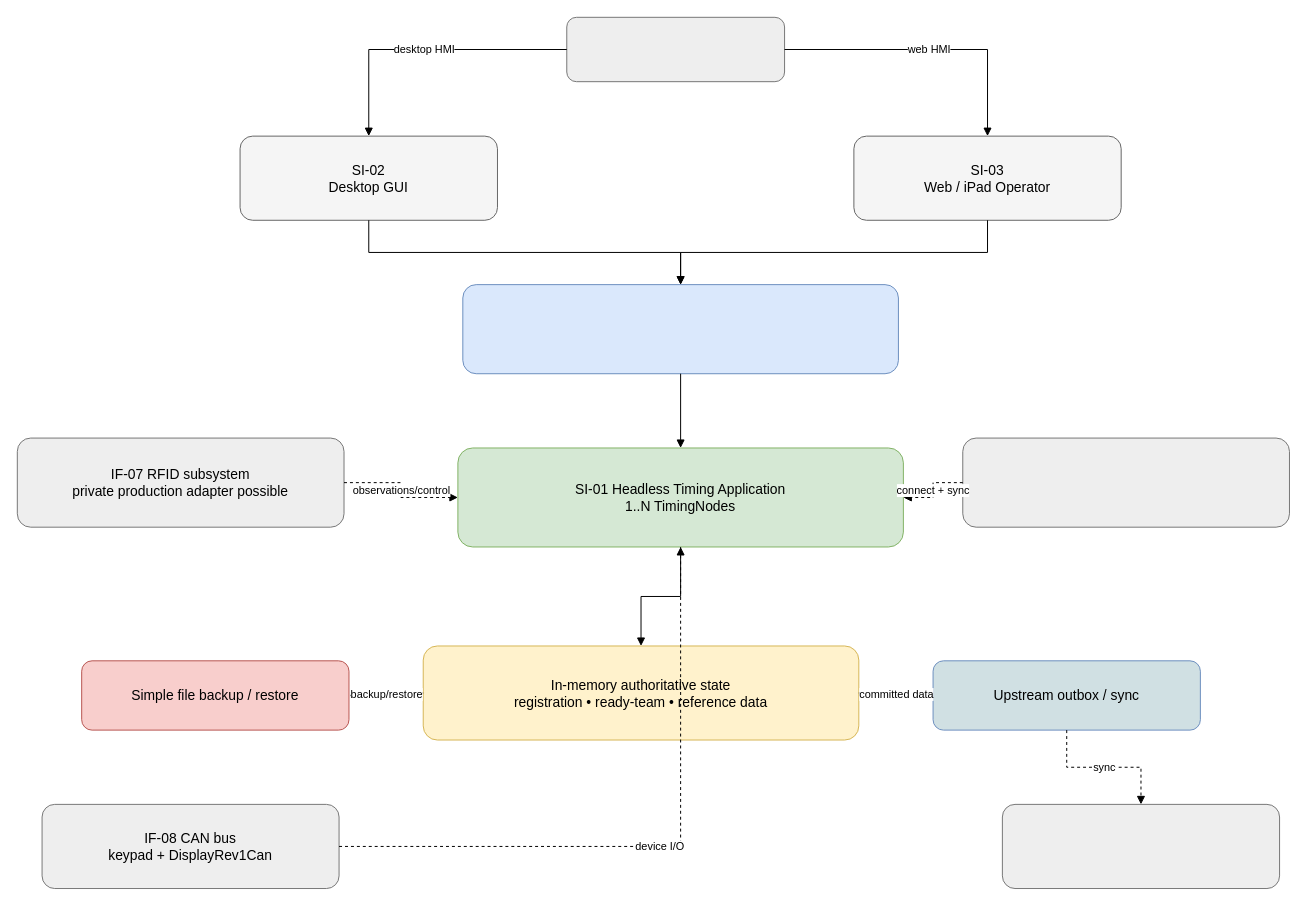
Some shapes in this 1307 by 906 pixel diagram are drawn without their labels. Each missing label, with the box of its shape:
IF-03 Application Control & Status HTTP/JSON + WebSocket: (462, 284, 898, 374)
IF-06 Upstream system RabbitMQ intended: (1001, 803, 1280, 889)
IF-09 DisplayRev2Wifi smart client • mDNS + network data: (962, 437, 1289, 527)
Operator: (566, 16, 785, 82)
